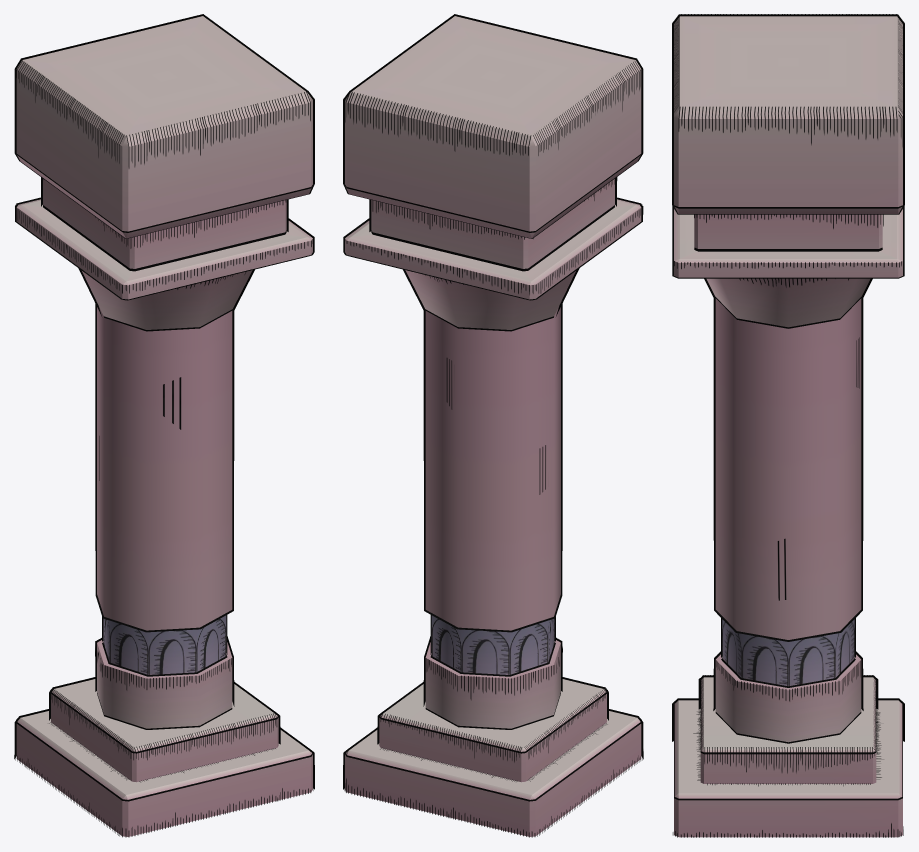
File: pm-column-regular.glb
The picture shows the model from 3 angles, left to right: view 1: azimuth 30°, elevation 25°; view 2: azimuth 150°, elevation 25°; view 3: azimuth 270°, elevation 25°; orthographic projection. The views are drawn at different scales.
Parts seen in each view (by area): view 1: Column_Regular; view 2: Column_Regular; view 3: Column_Regular.
Part boxes in pixels (left/top/right/bottom): Column_Regular: left=14, top=14, right=314, bottom=837; Column_Regular: left=343, top=14, right=643, bottom=837; Column_Regular: left=672, top=14, right=904, bottom=837.
Bounding box in the file's own units: 1.02 × 3.51 × 1.02.
3 materials, 2 textured.
